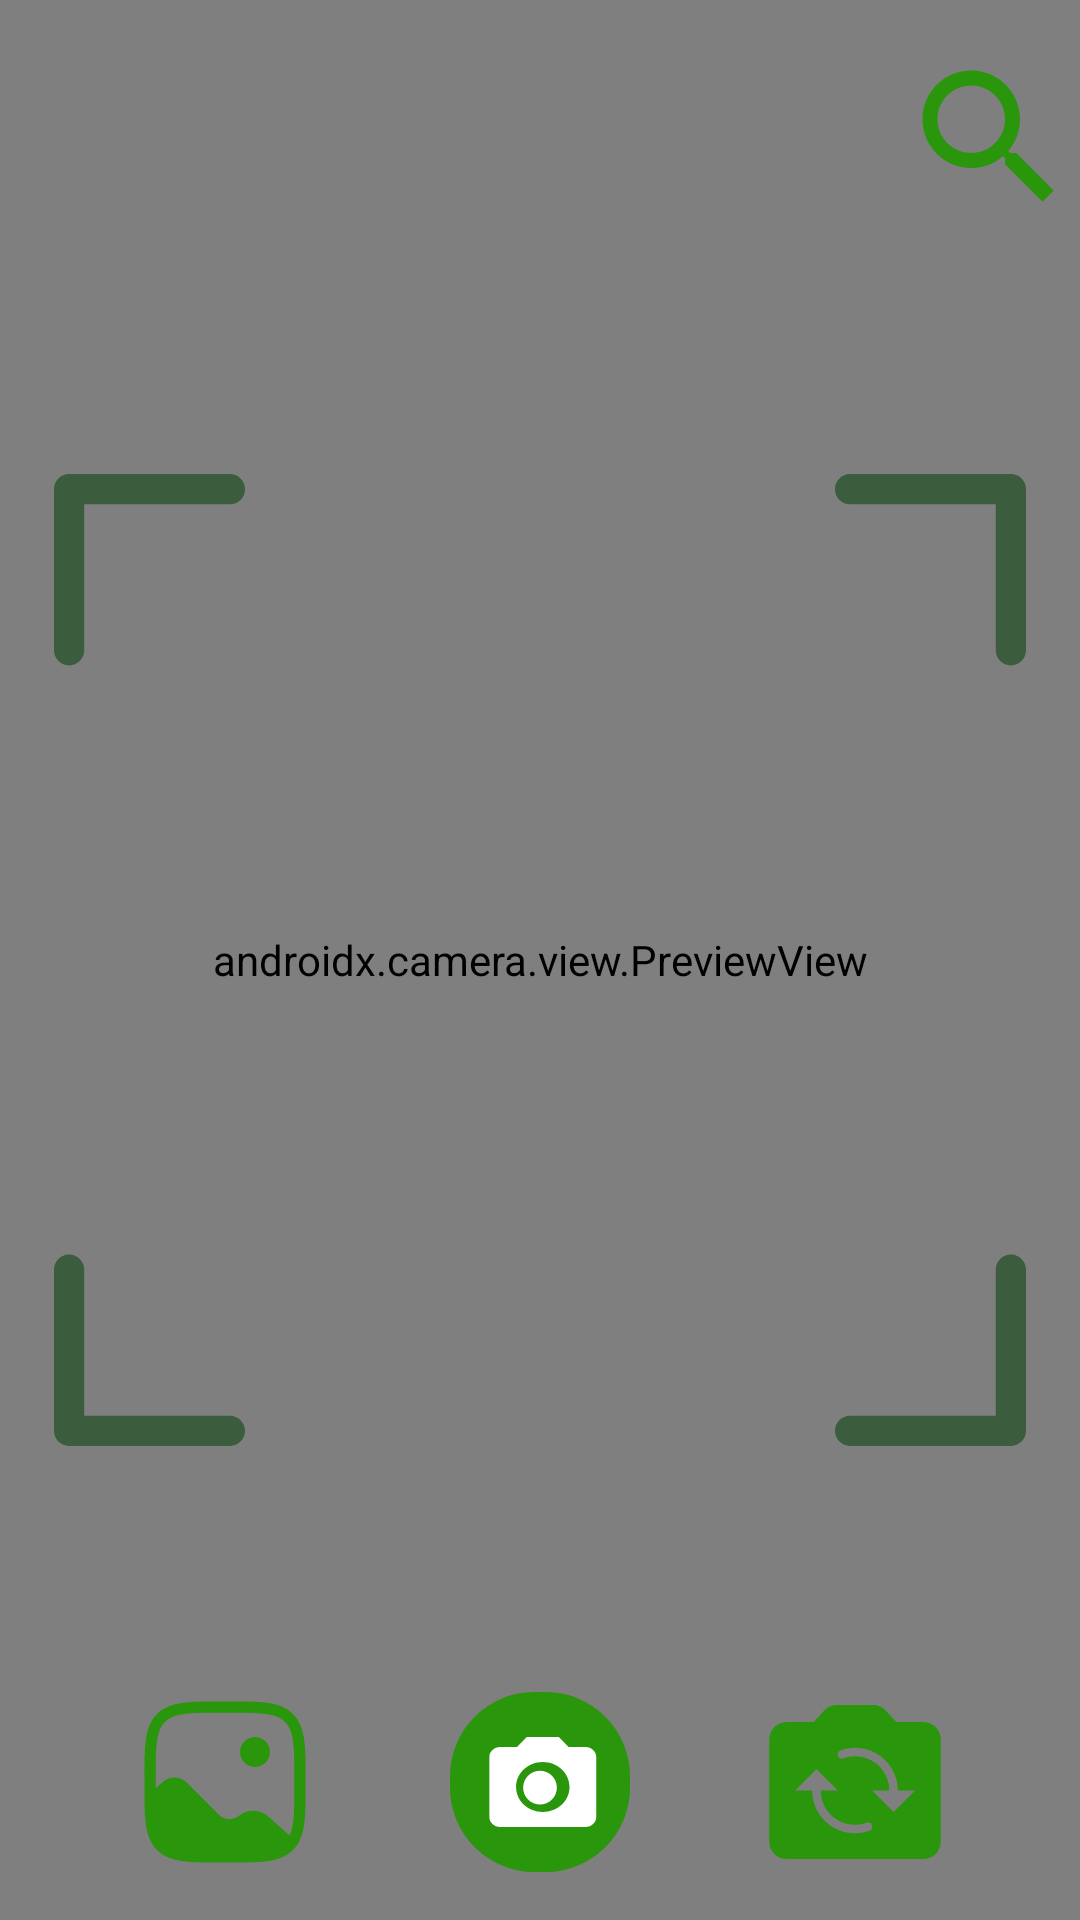

Where icons sit on this 1080px x 1920px app screen, as (x1, y1, x2, y2):
capture: (450, 1692, 630, 1872)
gallery: (144, 1701, 306, 1863)
search: (922, 70, 1054, 202)
switch camera: (769, 1705, 941, 1859)
